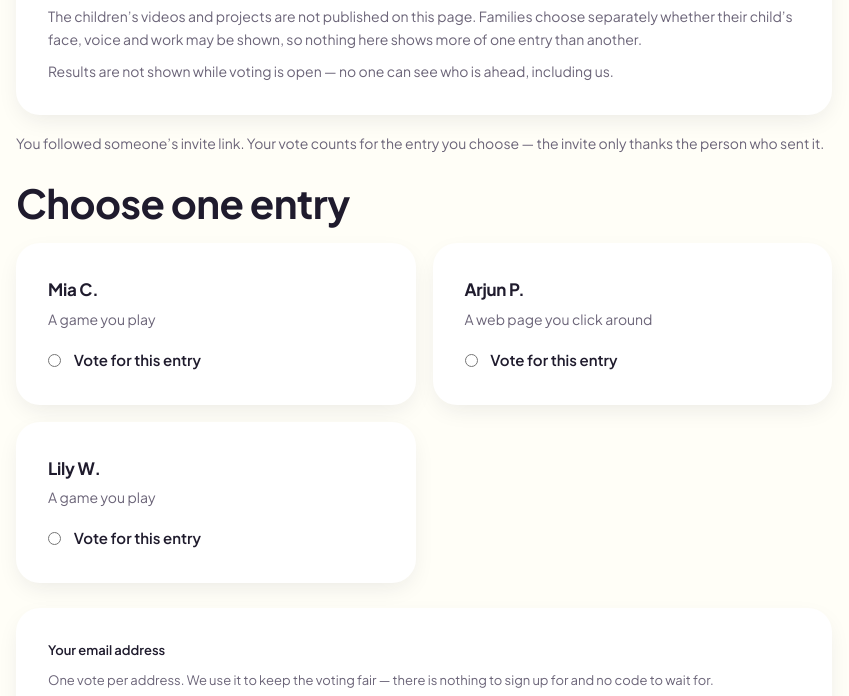
PublicVotePage — casting a vote › carries an invite code from the URL, and says whose bonus it is
(page scrolled)
Expected: the text with test id "vote-referral-notice" shows "invite only thanks the person who sent it", [16,134,824,152]
Click the radio button labelled "Vote for this entry" below "Mia C.". click: (54, 360)
box: [48,354,61,367]
(page scrolled)
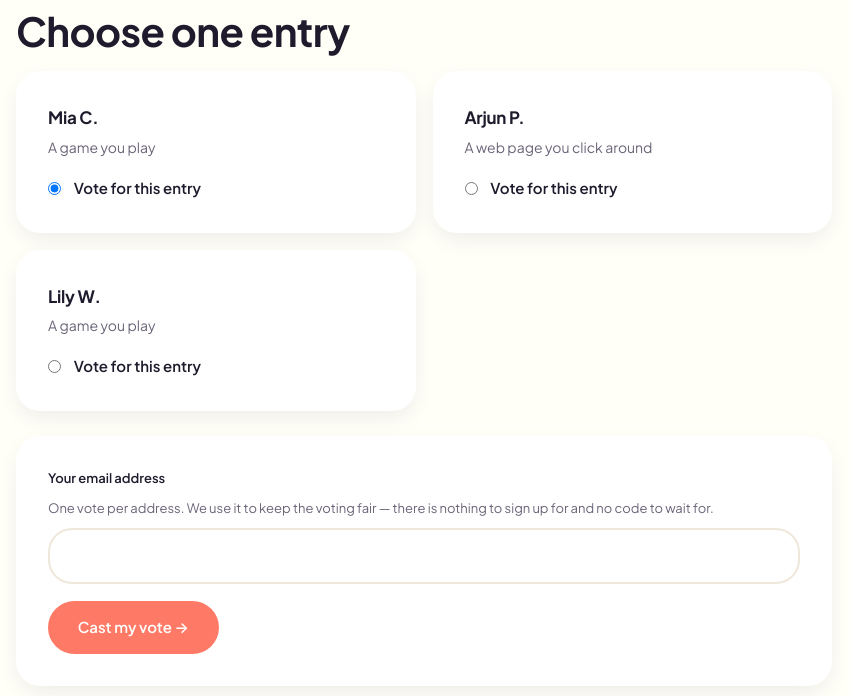
Type "grandma@example.com" into the field with test id "vote-email". click: (424, 556)
box: [48,528,800,584]
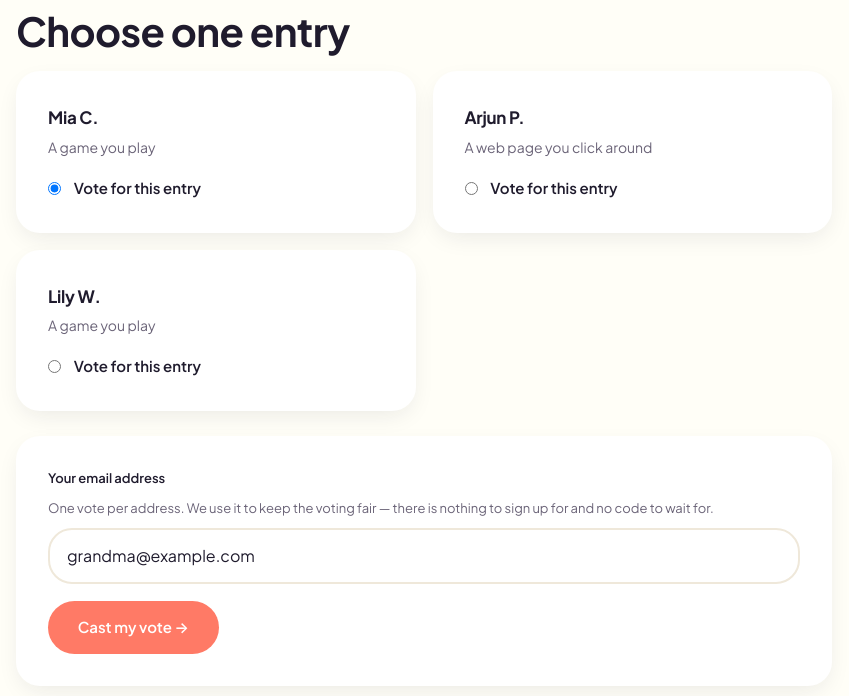
Click the button with test id "vote-submit". click: (133, 627)
box: [48,601,219,654]
(page scrolled)
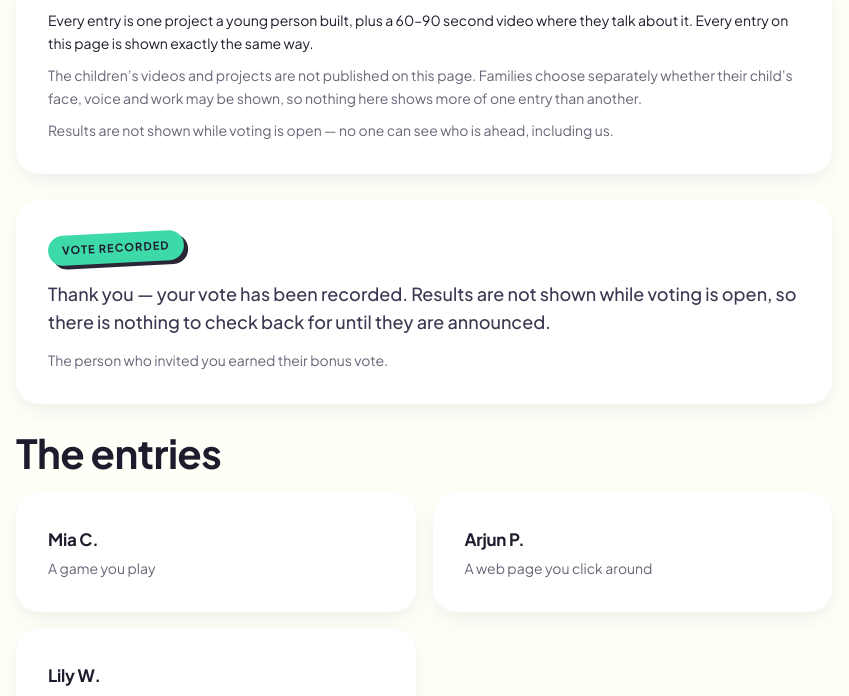
Expected: the message with test id "vote-receipt" is shown, [16,199,832,404]
Expected: the text with test id "vote-referral-outcome" shows "person who invited you earned their bonus vote", [48,351,388,369]
